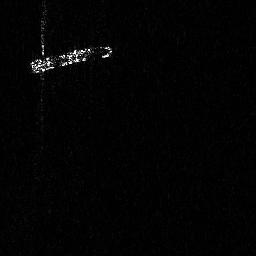ship: (30, 41, 112, 77)
